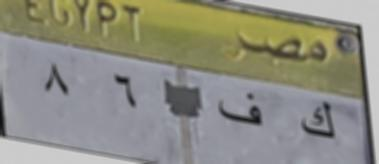6: (108, 65, 140, 113)
8: (40, 62, 76, 103)
faa: (212, 87, 267, 131)
kaaf: (295, 96, 338, 146)
